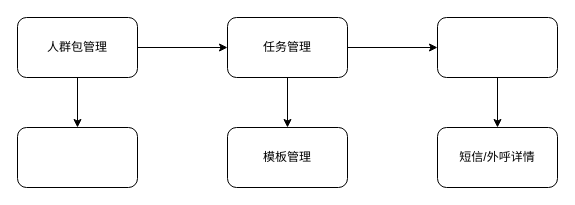
The diagram is 575 pixels wide and 205 high, and some of its shapes have lost their labels. Each missing label, with the centre of its shape:
人员信息管理: the point at 77,157
短信/外呼记录: the point at 497,47
